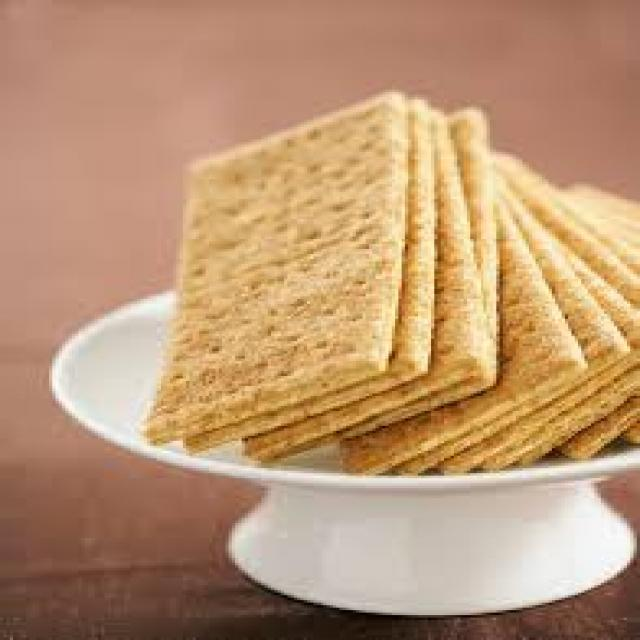Cracker: (147, 102, 401, 418)
